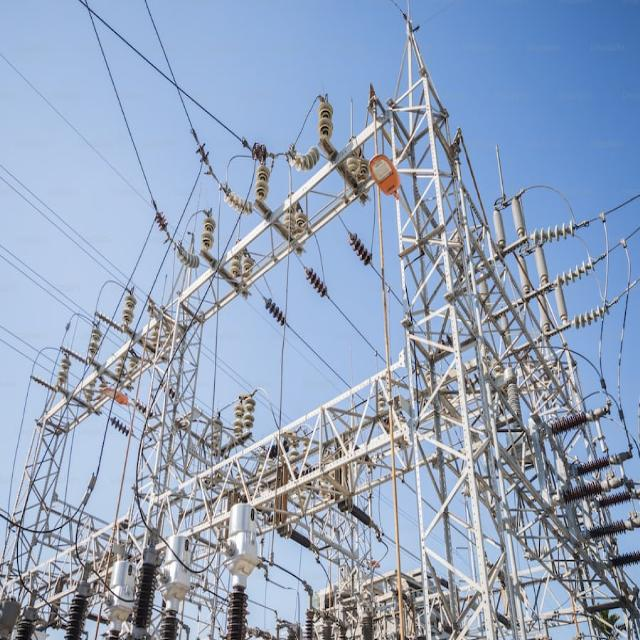insulator: (516, 202, 588, 250), (572, 285, 618, 347), (556, 243, 604, 292), (298, 261, 337, 312), (341, 222, 376, 273), (116, 288, 146, 338), (196, 206, 221, 252), (260, 290, 289, 326), (249, 163, 272, 198)
